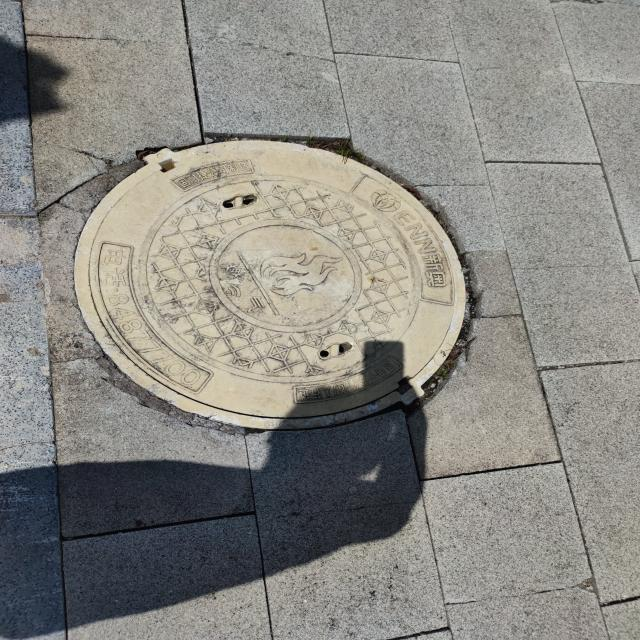Good: (69, 134, 488, 434)
